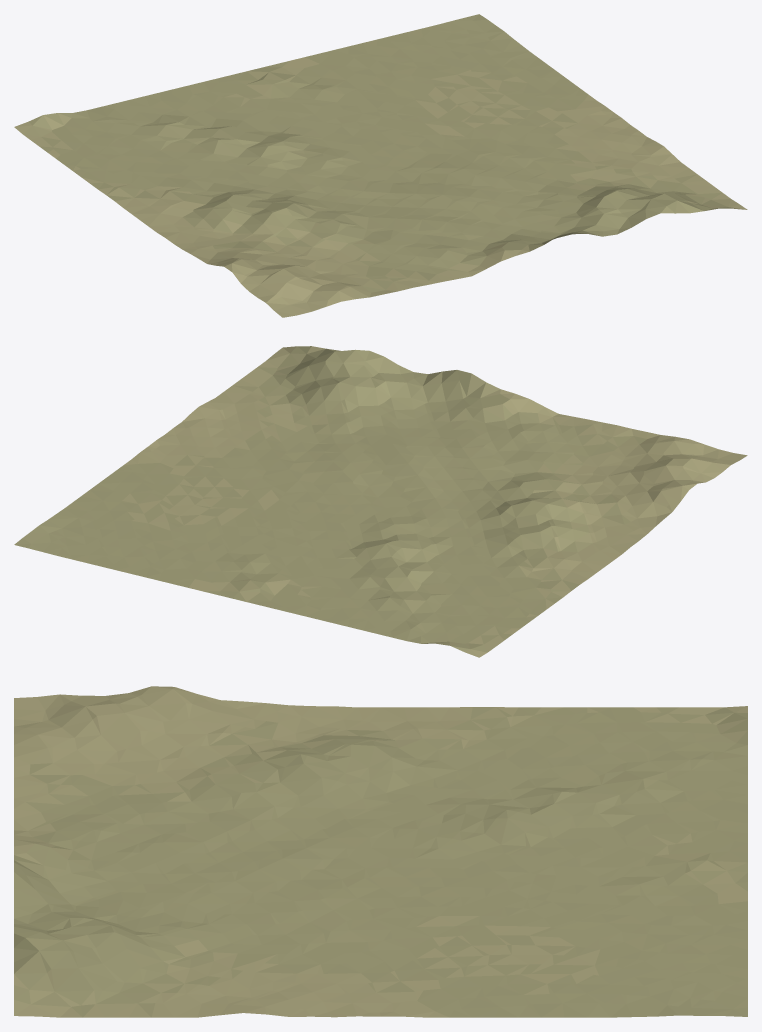
The model's file is Ground_0_5.glb.
The picture shows the model from 3 angles, top to bottom: view 1: azimuth 30°, elevation 25°; view 2: azimuth 150°, elevation 25°; view 3: azimuth 270°, elevation 25°; orthographic projection. The views are drawn at different scales.
Parts seen in each view (by area): view 1: Ground_0_5; view 2: Ground_0_5; view 3: Ground_0_5.
Boxes of the visible parts, x1=… form: Ground_0_5: x1=14, y1=14, x2=747, y2=317; Ground_0_5: x1=14, y1=346, x2=747, y2=657; Ground_0_5: x1=14, y1=686, x2=747, y2=1017.
Size of the model in its own units: 768 by 33.94 by 768.
